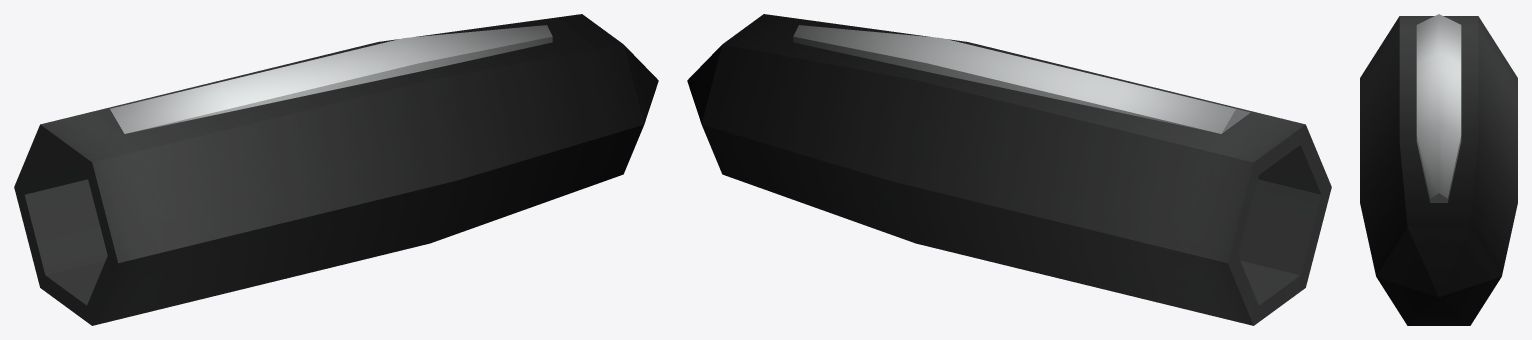
Rendered from PenLid.fbx.
3 renders of one model, left to right at view 1: azimuth 30°, elevation 25°; view 2: azimuth 150°, elevation 25°; view 3: azimuth 270°, elevation 25°, orthographic. The views are drawn at different scales.
Parts seen in each view (by area): view 1: PenLid; view 2: PenLid; view 3: PenLid.
Boxes of the visible parts, box(x1,y1,x2,y2) form: PenLid: box(14, 14, 658, 325); PenLid: box(687, 14, 1331, 325); PenLid: box(1360, 14, 1517, 325).
Size of the model in its own units: 3.49 by 1.05 by 1.06.
